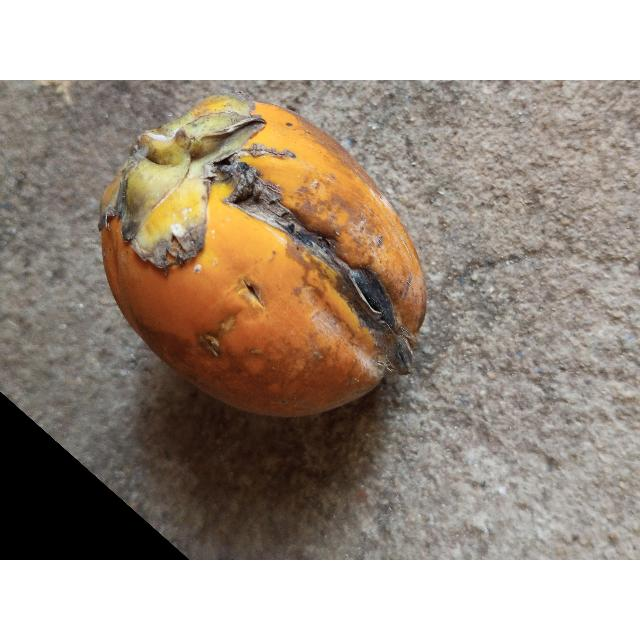damaged: (99, 95, 426, 416)
